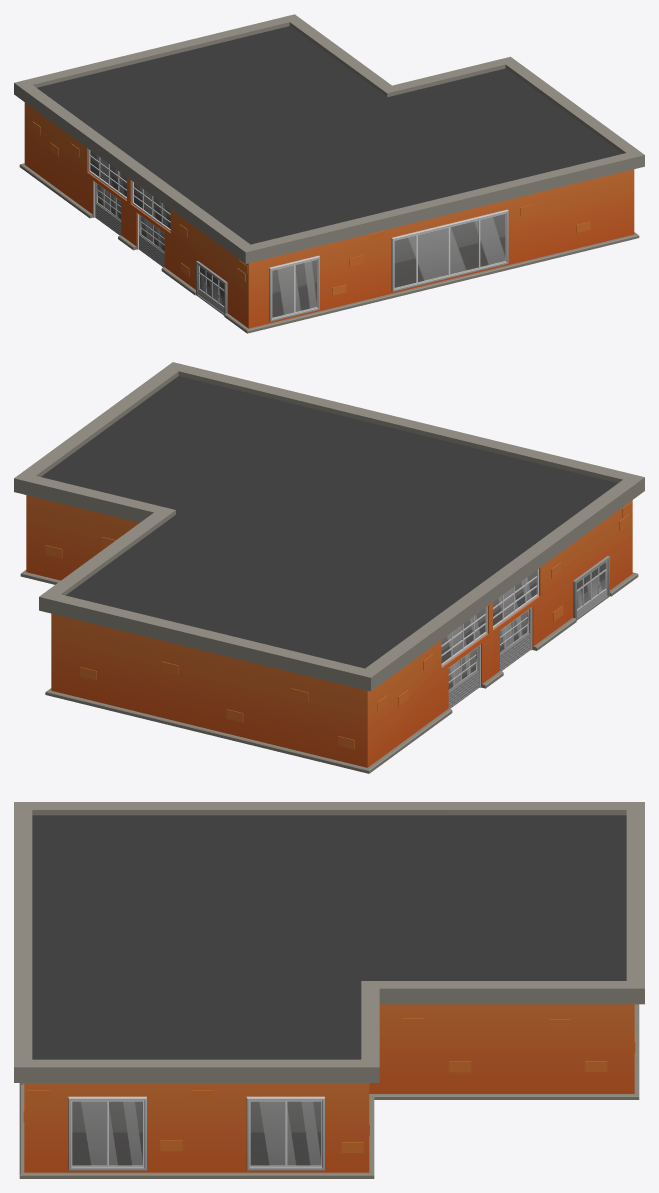
File: Building_22_2_C.fbx
3 renders of one model, top to bottom at view 1: azimuth 30°, elevation 25°; view 2: azimuth 150°, elevation 25°; view 3: azimuth 270°, elevation 25°, orthographic. The views are drawn at different scales.
Parts seen in each view (by area): view 1: Building_22_2_C; view 2: Building_22_2_C; view 3: Building_22_2_C.
Boxes of the visible parts, box(x1,y1,x2,y2) form: Building_22_2_C: box(14, 14, 644, 333); Building_22_2_C: box(14, 362, 644, 773); Building_22_2_C: box(14, 802, 644, 1178).
Bounding box in the file's own units: 3108 × 622 × 3125.
